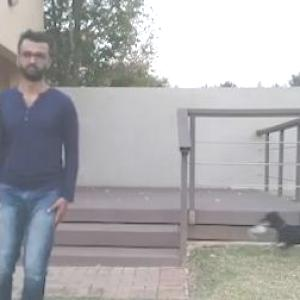follow: (1, 21, 94, 299)
